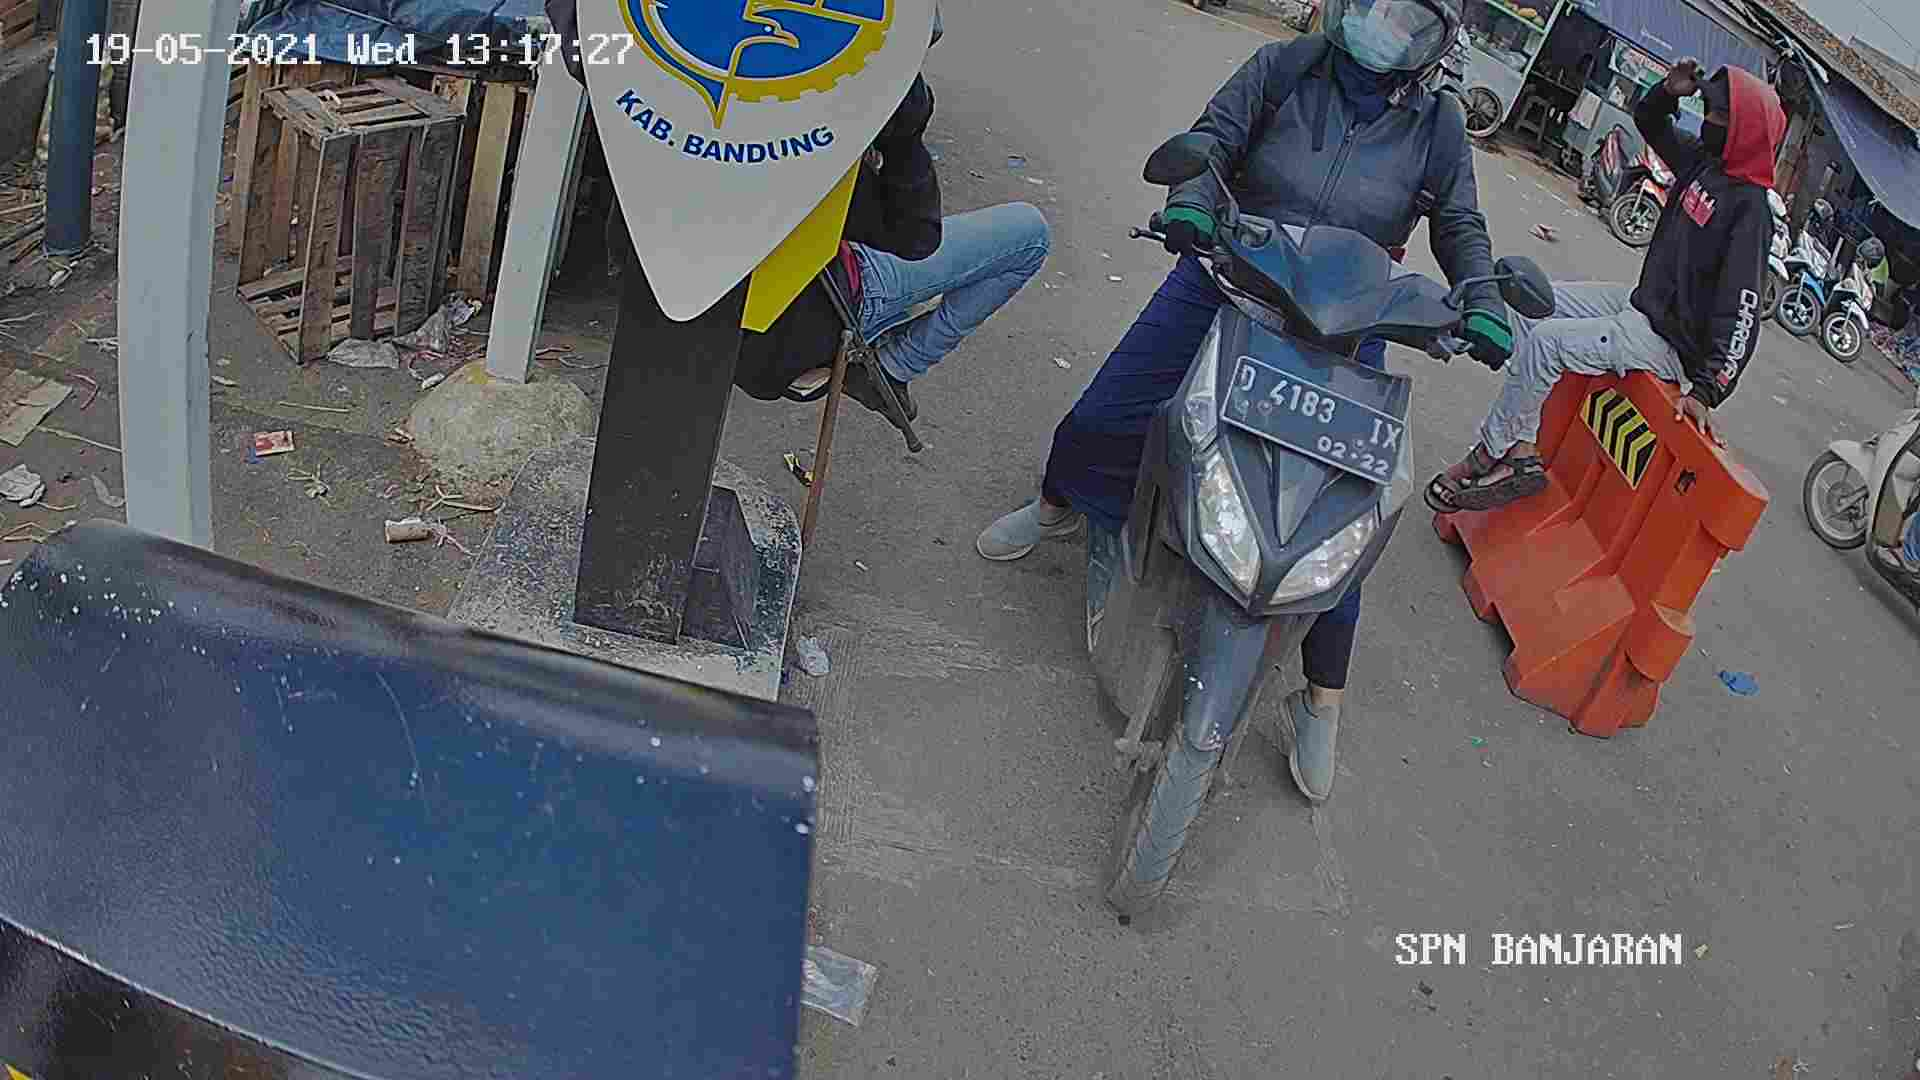motor: (1046, 171, 1460, 928)
